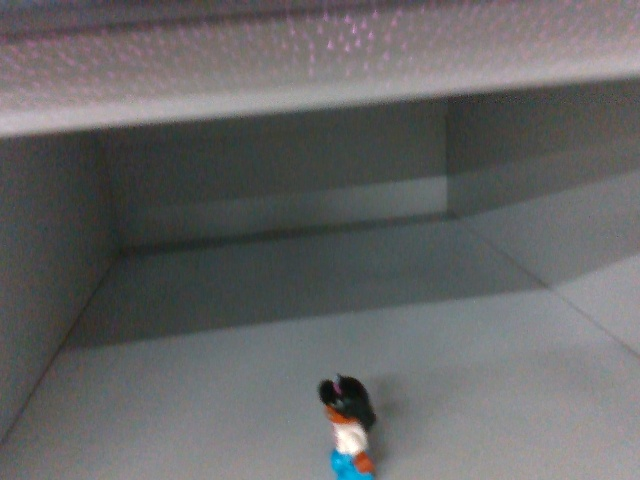people: (312, 375, 382, 480)
